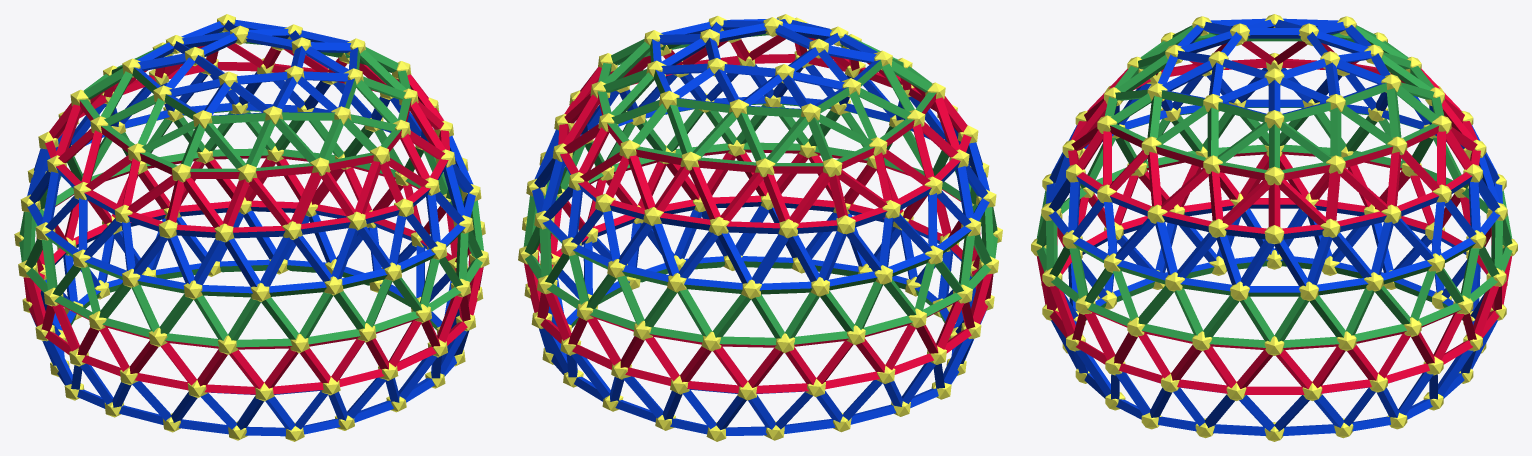
The model's file is JungleGymSphere.fbx.
The picture shows the model from 3 angles, left to right: view 1: azimuth 30°, elevation 25°; view 2: azimuth 150°, elevation 25°; view 3: azimuth 270°, elevation 25°; orthographic projection. The views are drawn at different scales.
Visible parts, largest first — view 1: Cage.001, Balls.001; view 2: Cage.001, Balls.001; view 3: Cage.001, Balls.001.
Boxes of the visible parts, x1,y1,x2,y2 form: Cage.001: [19, 19, 483, 436]; Balls.001: [14, 14, 489, 441]; Cage.001: [523, 18, 997, 435]; Balls.001: [518, 14, 1002, 441]; Cage.001: [1036, 18, 1512, 435]; Balls.001: [1031, 14, 1517, 441].
Bounding box in the file's own units: 3.87 × 2.75 × 3.86.
